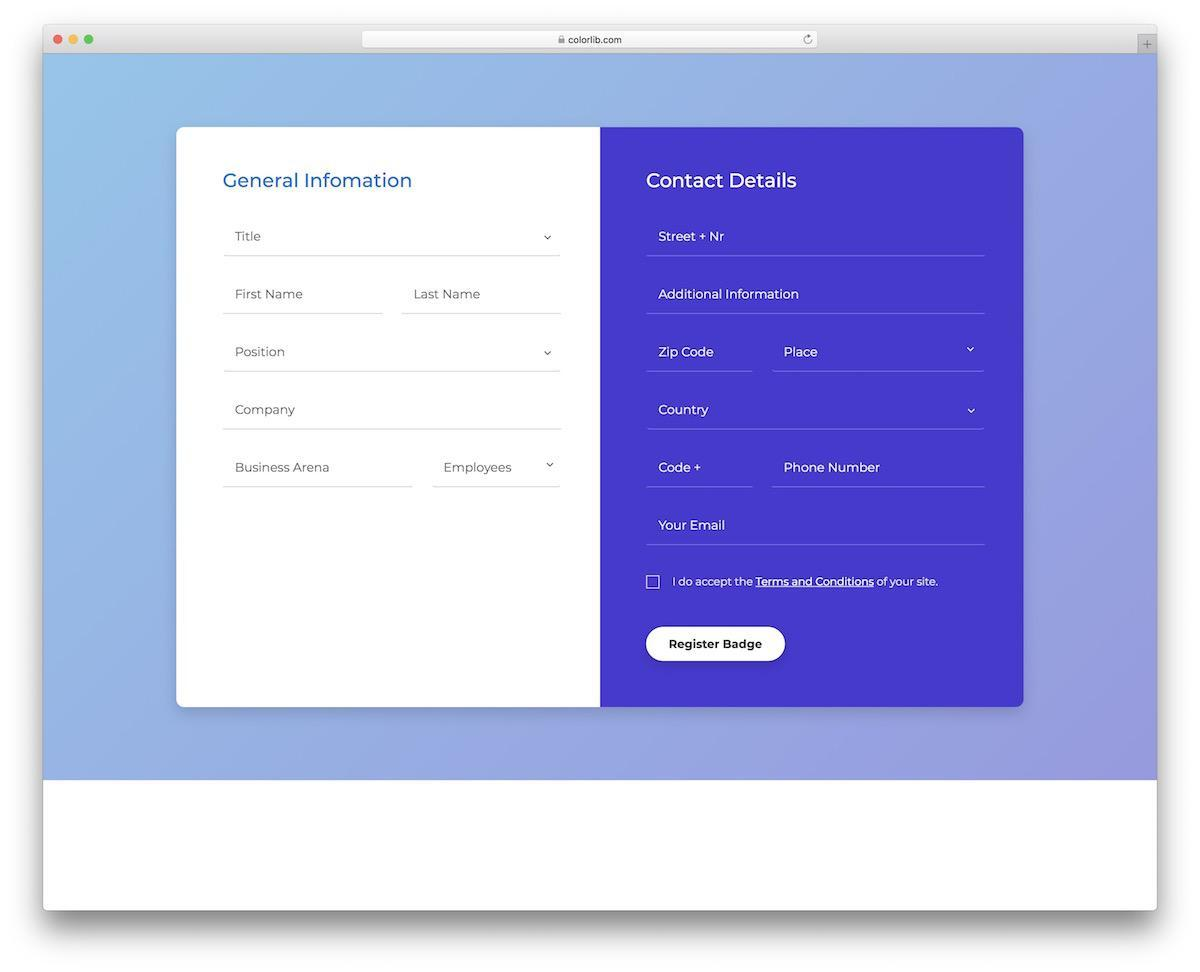button: (646, 625, 785, 664)
checkbox: (645, 574, 663, 591)
label: (669, 571, 942, 596), (213, 170, 420, 198), (641, 163, 806, 194)
